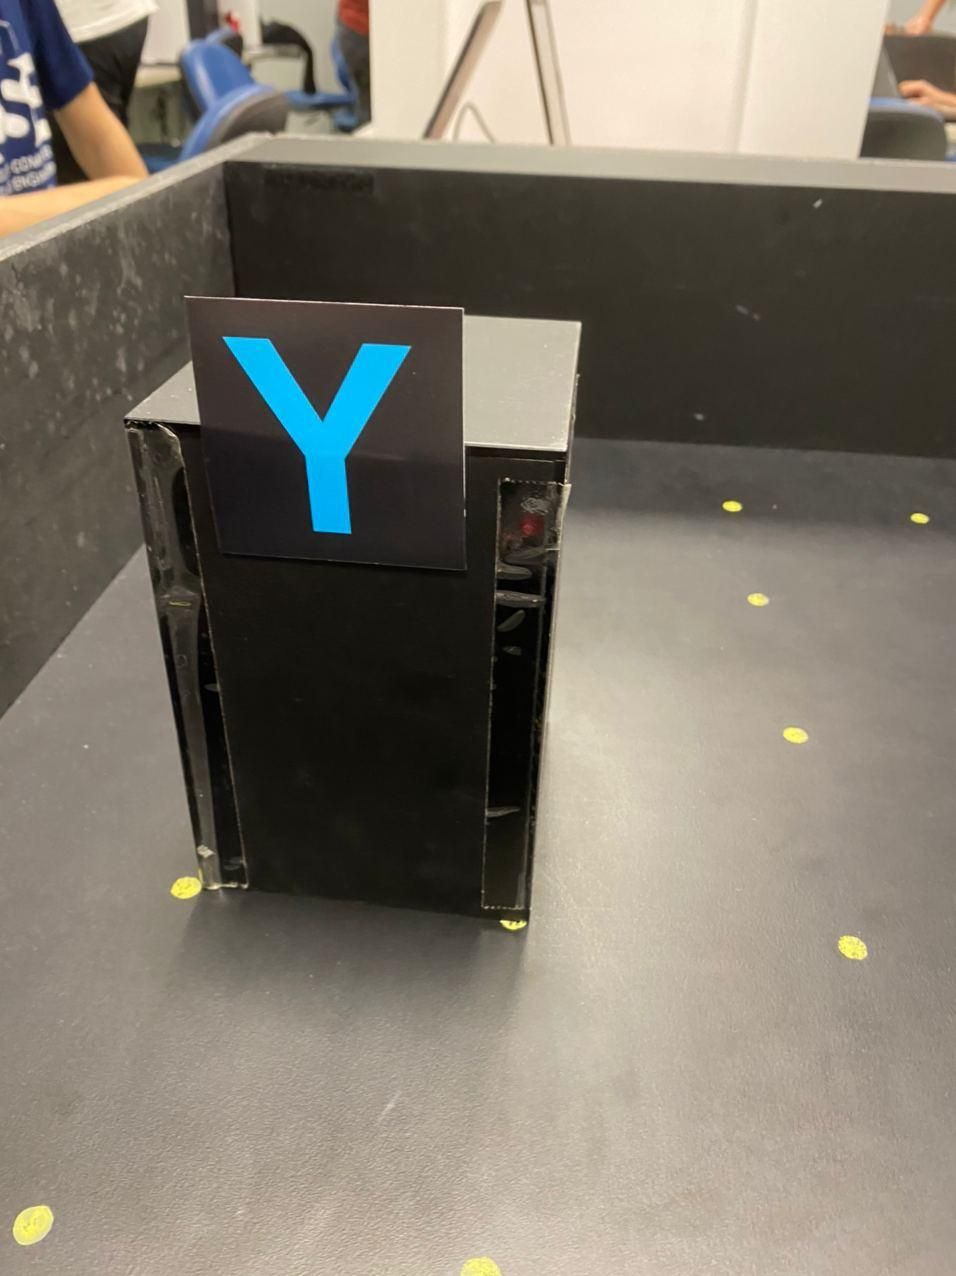y: (217, 326, 435, 551)
